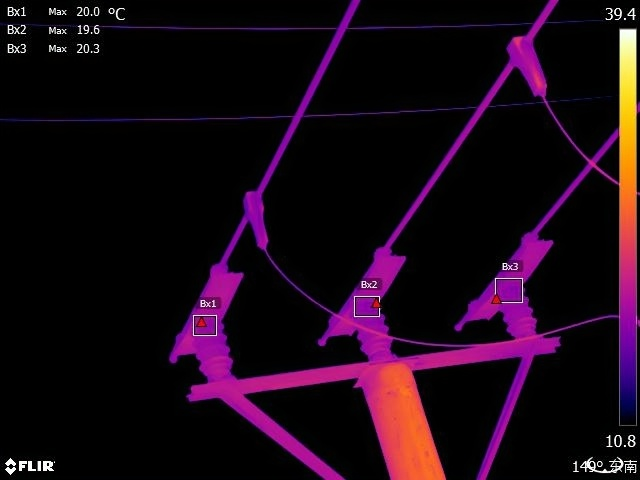clamp: (500, 19, 558, 106), (237, 179, 284, 254)
post insulator: (188, 311, 238, 381), (496, 281, 545, 342), (350, 297, 398, 359)
